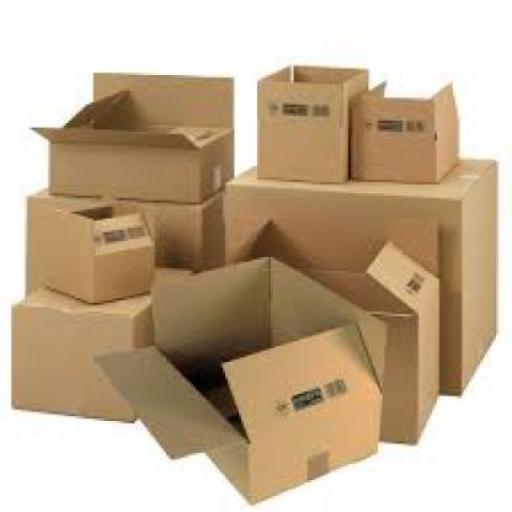cardboard: (98, 255, 389, 503), (226, 157, 498, 398), (237, 212, 444, 443), (14, 262, 196, 424), (28, 182, 230, 321), (37, 73, 239, 203), (257, 64, 373, 180), (34, 200, 157, 305), (354, 76, 466, 184)
